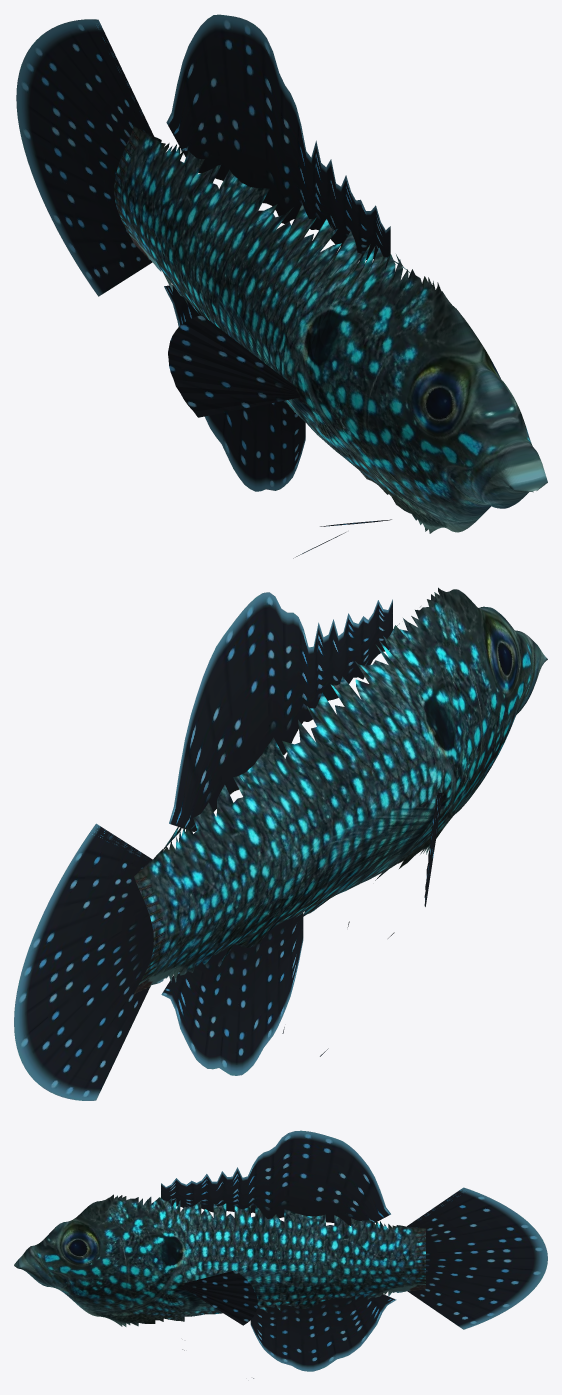
File: pygmy.glb
The picture shows the model from 3 angles, top to bottom: view 1: azimuth 30°, elevation 25°; view 2: azimuth 150°, elevation 25°; view 3: azimuth 270°, elevation 25°; orthographic projection. The views are drawn at different scales.
Visible parts, largest first — view 1: body, fin (×4); view 2: body, fin (×3); view 3: body, fin (×4).
Part boxes in pixels (<box>): body: <box>114,126,547,533</box>; fin (×4): <box>16,14,390,491</box>; body: <box>134,587,547,994</box>; fin (×3): <box>14,592,392,1100</box>; body: <box>14,1194,425,1326</box>; fin (×4): <box>161,1130,547,1371</box>.
Size of the model in its own units: 0.00871 by 0.0158 by 0.0301.
1 material, 1 textured.
